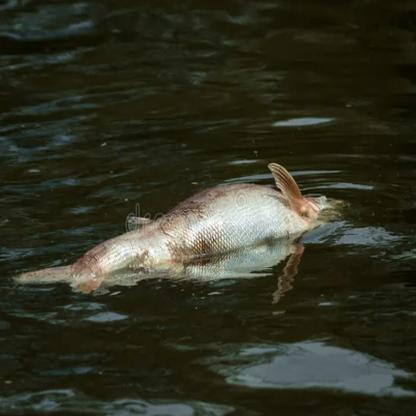deceased fish: (23, 158, 344, 303)
